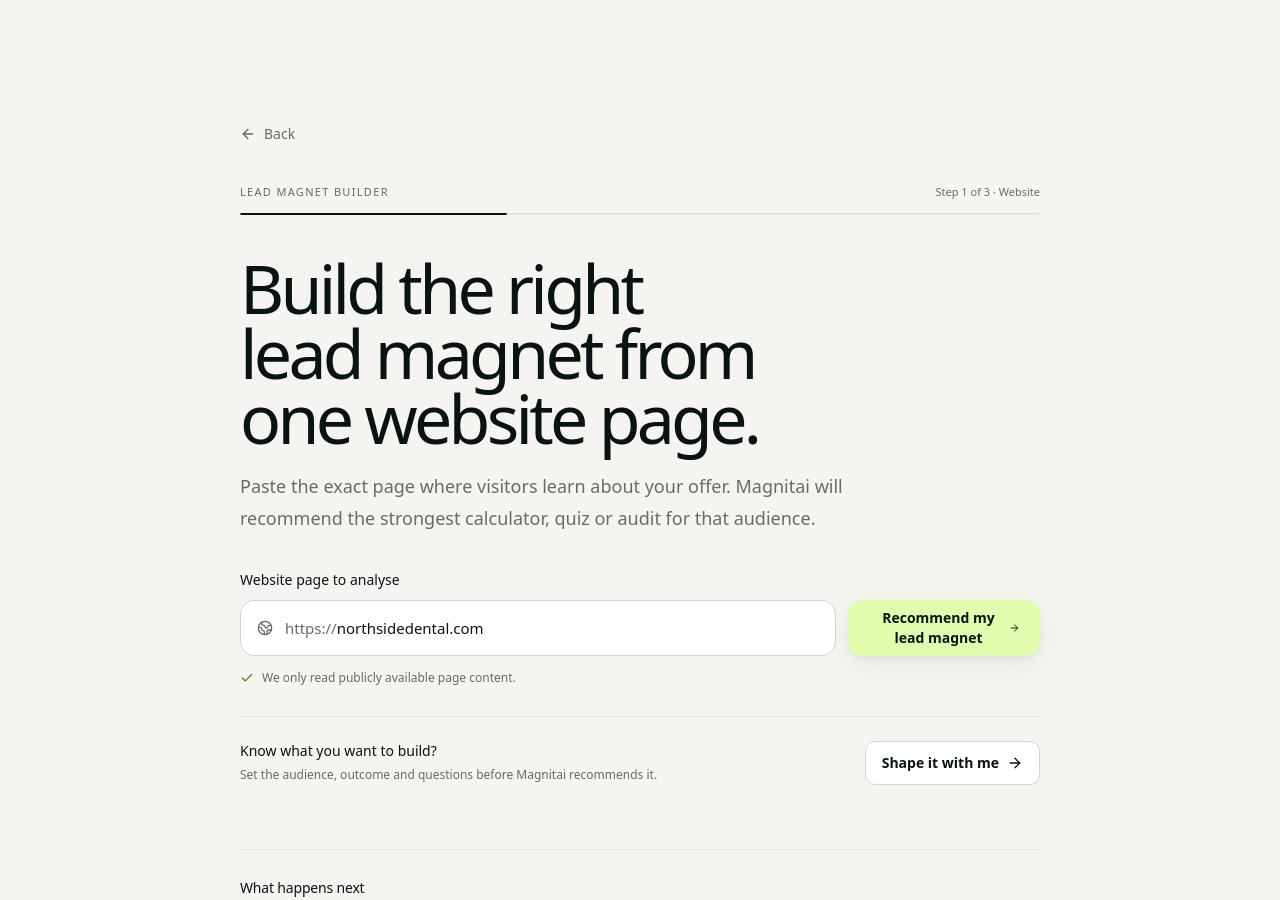
CheckoutFlow · AI build › explains the commercial strategy before asking the visitor to choose
Click the button "Recommend my lead magnet": (944, 628) [848,600,1040,656]
(page scrolled)
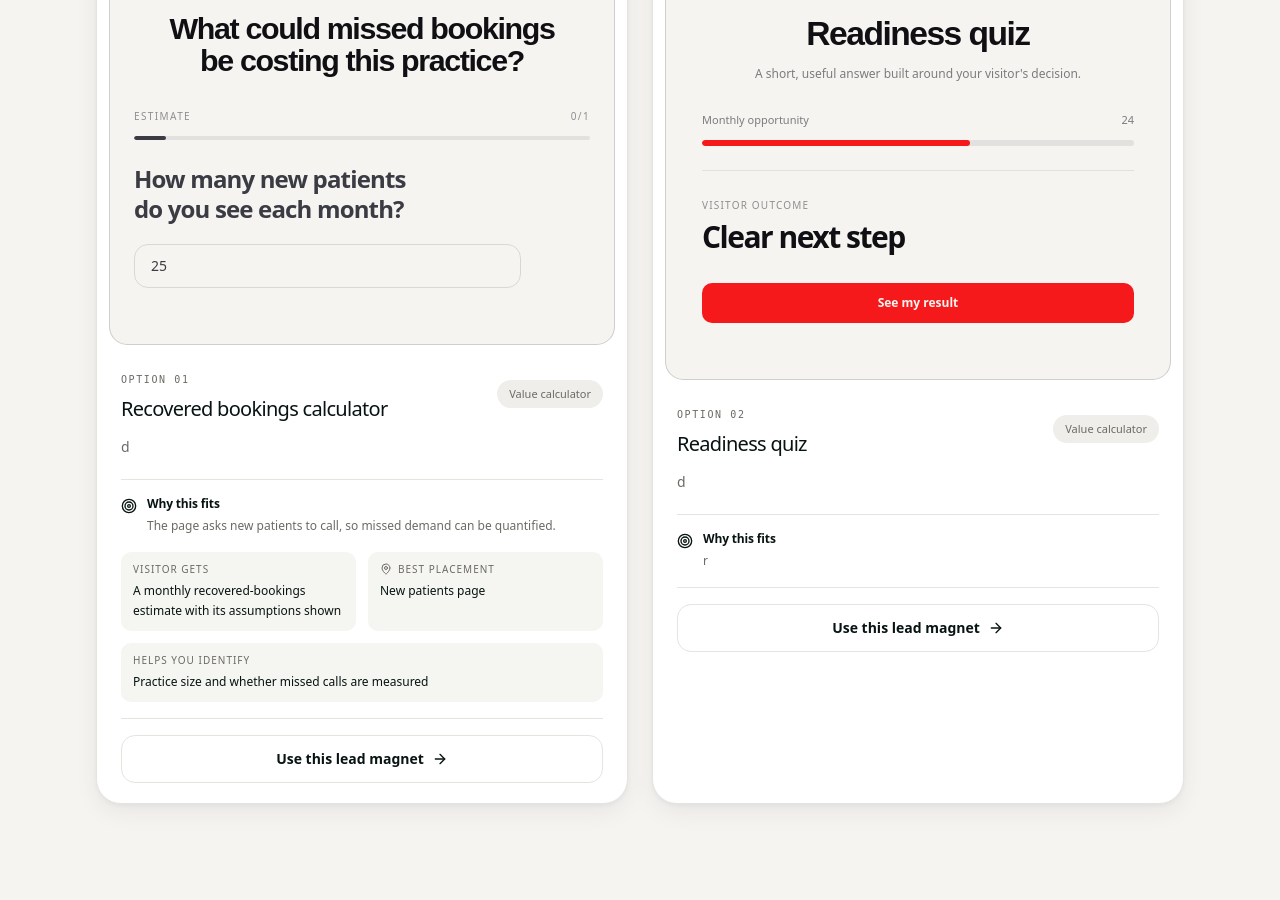
expect the heading "What could missed bookings be costing this practice?" is shown: met, box [159,13,565,77]
expect the text "monthly recovered-bookings estimate" is shown: met, box [133,582,341,619]
expect the text "New patients page" is shown: met, box [380,582,485,599]
